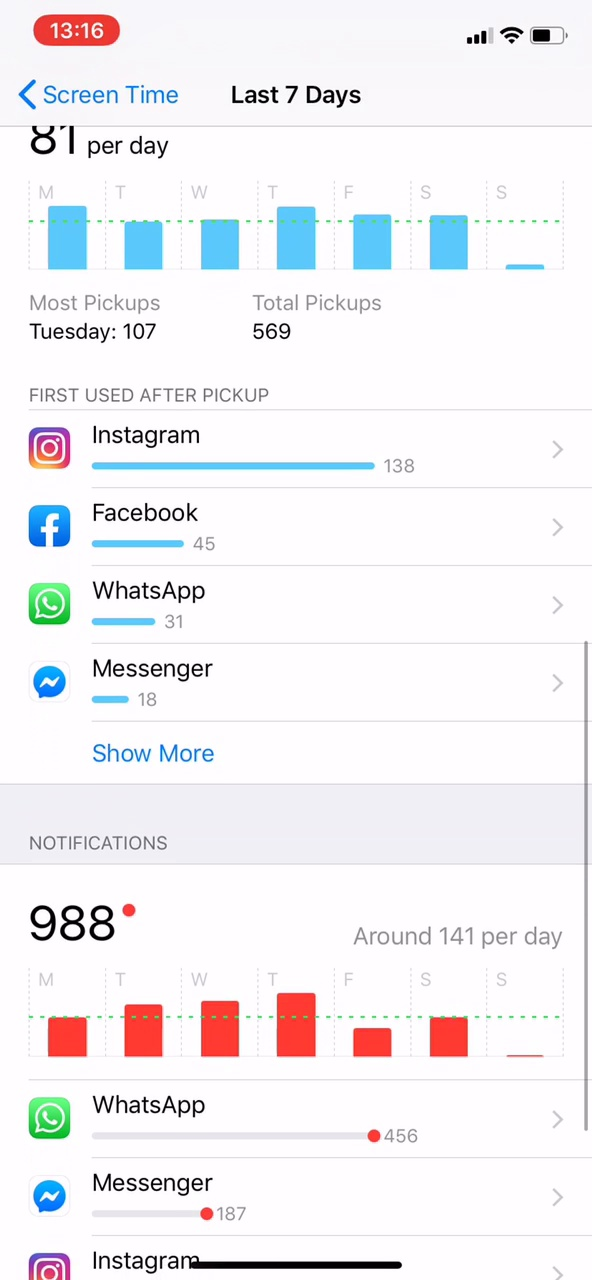not_app: (22, 1078, 478, 1157), (23, 1163, 354, 1238)
not_over: (22, 788, 215, 960)
pick_app: (20, 417, 445, 486), (15, 650, 272, 713), (20, 499, 259, 561), (15, 574, 232, 636)
pick_over: (20, 288, 418, 369)
week: (213, 65, 372, 114)
